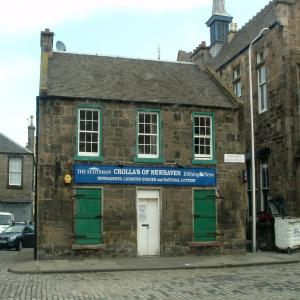Vehicle-registration-plate: (1, 240, 9, 245)
